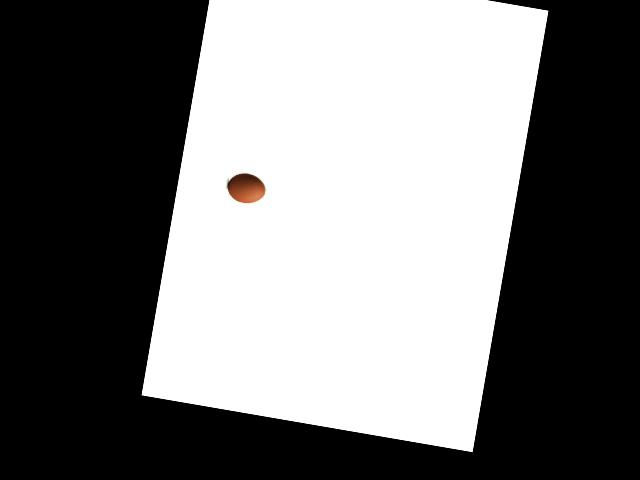egg: (225, 170, 267, 205)
